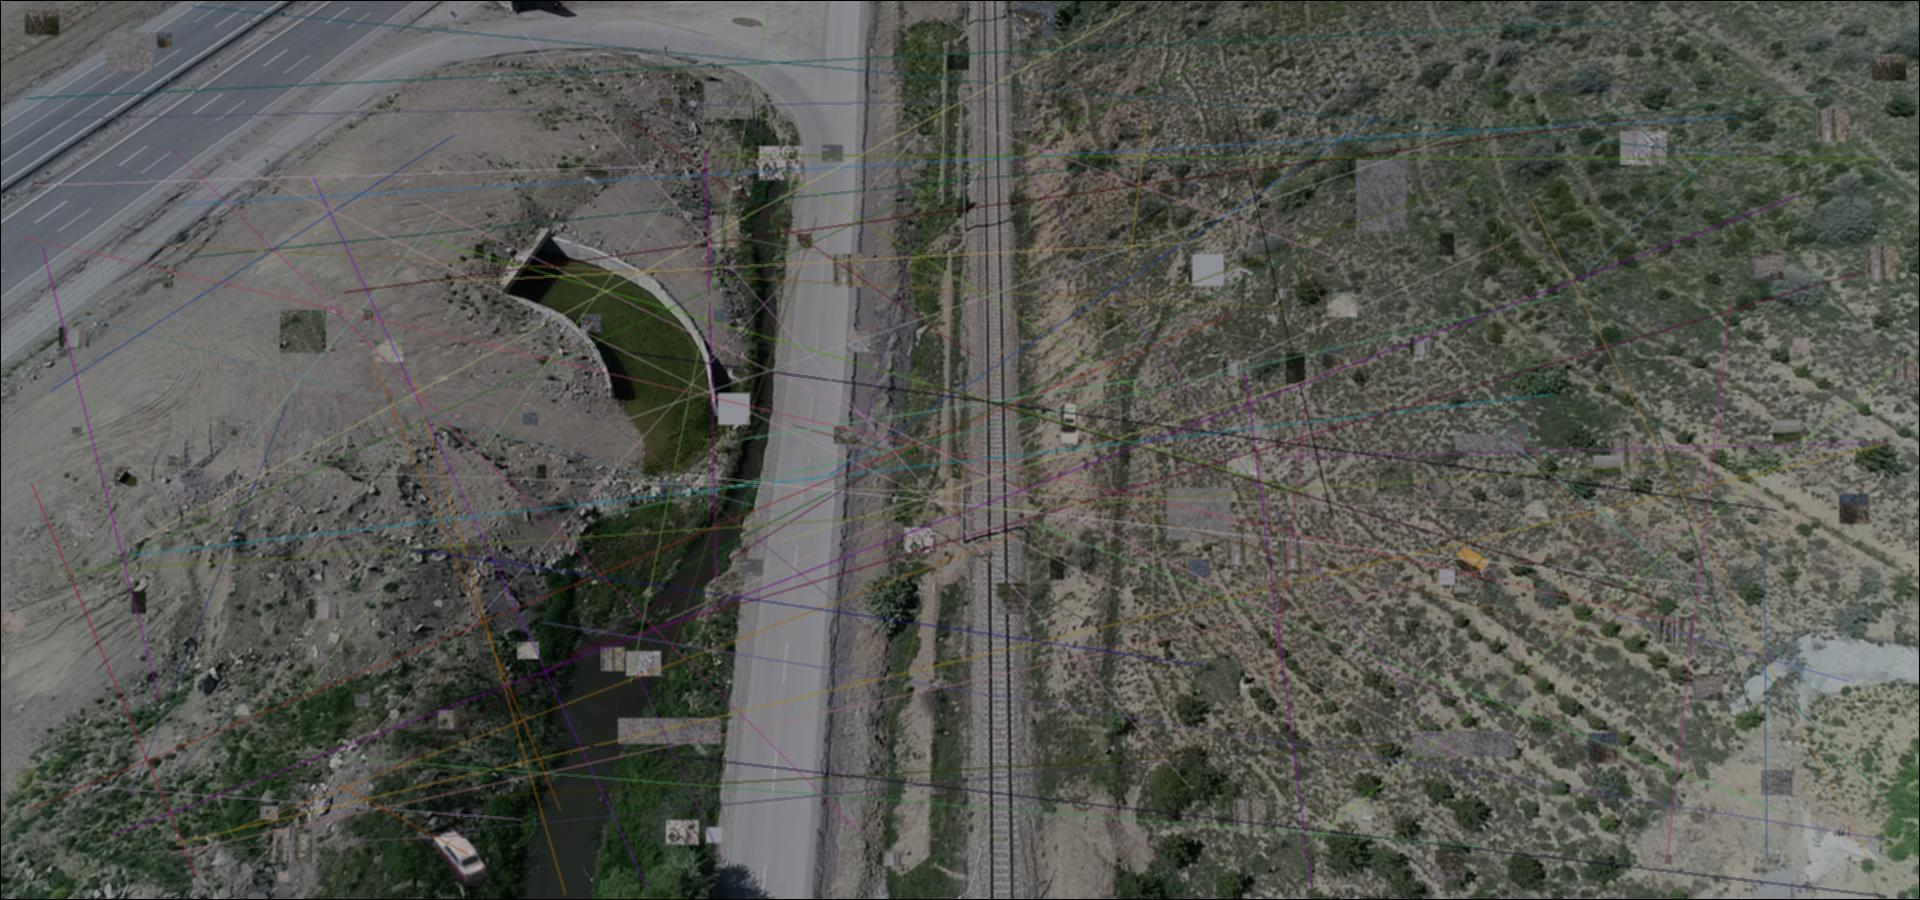arac: (429, 827, 489, 887), (1455, 544, 1490, 580), (1058, 403, 1081, 447)
